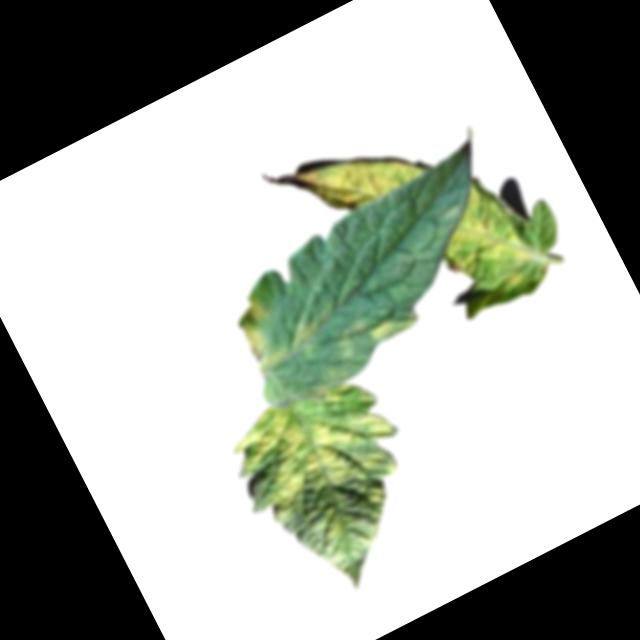Leaf_Mold: (223, 361, 411, 528), (288, 115, 425, 230), (420, 177, 535, 309), (225, 272, 329, 378), (329, 292, 417, 364)
